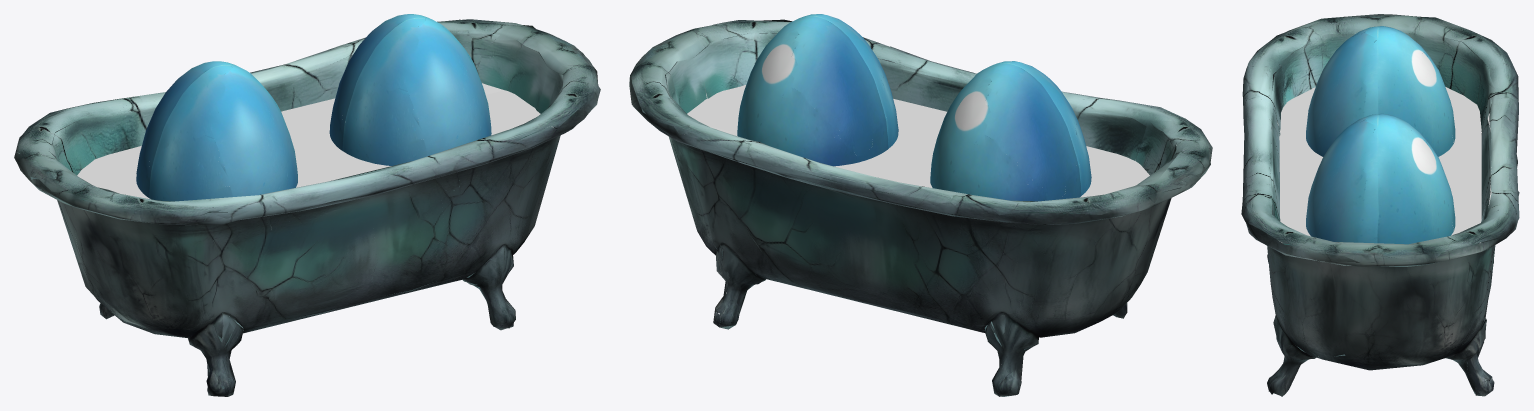
File: baneraLow.glb
The picture shows the model from 3 angles, left to right: view 1: azimuth 30°, elevation 25°; view 2: azimuth 150°, elevation 25°; view 3: azimuth 270°, elevation 25°; orthographic projection. The views are drawn at different scales.
Parts seen in each view (by area): view 1: banera, huevo1, huevo2, Plane; view 2: banera, huevo1, huevo2, Plane; view 3: banera, huevo1, huevo2, Plane.
Part boxes in pixels (x1,y1,x2,y2): banera: (14,19,600,396); huevo1: (329,14,491,165); huevo2: (136,61,297,201); Plane: (77,83,553,199); banera: (629,19,1212,396); huevo1: (737,14,898,166); huevo2: (930,61,1091,201); Plane: (687,85,1149,197); banera: (1241,14,1519,396); huevo1: (1306,113,1455,244); huevo2: (1306,26,1455,156); Plane: (1277,87,1491,242).
Bounding box in the file's own units: 1.92 × 0.9346 × 0.913.
Materials: 3 (3 with a texture image).
